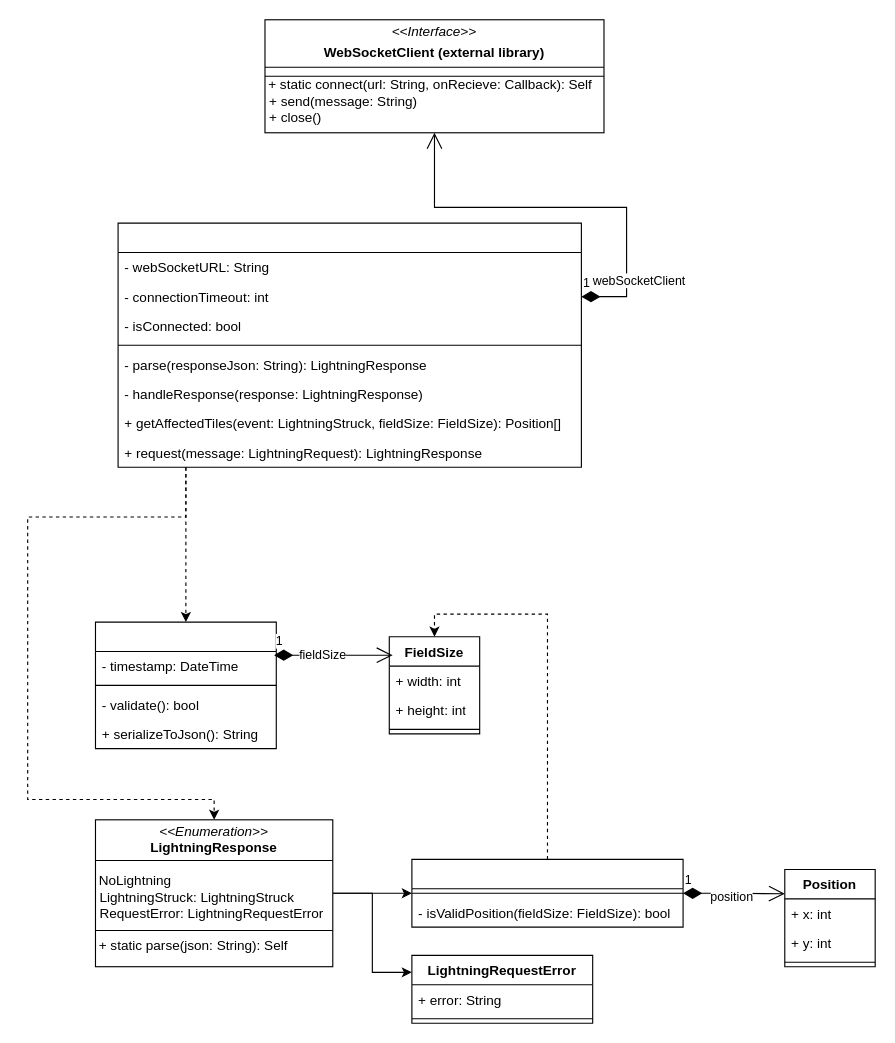
Some shapes in this 895 by 1043 pixel diagram are drawn without their labels. The shapes that lost their labels are listed below. From the top down, each one's box as (x1, y1, x2, y2) in pixels, then its label:
(117, 222, 581, 467): ThunderService
(94, 621, 276, 749): LightningRequest
(411, 858, 683, 927): LightningStruck
